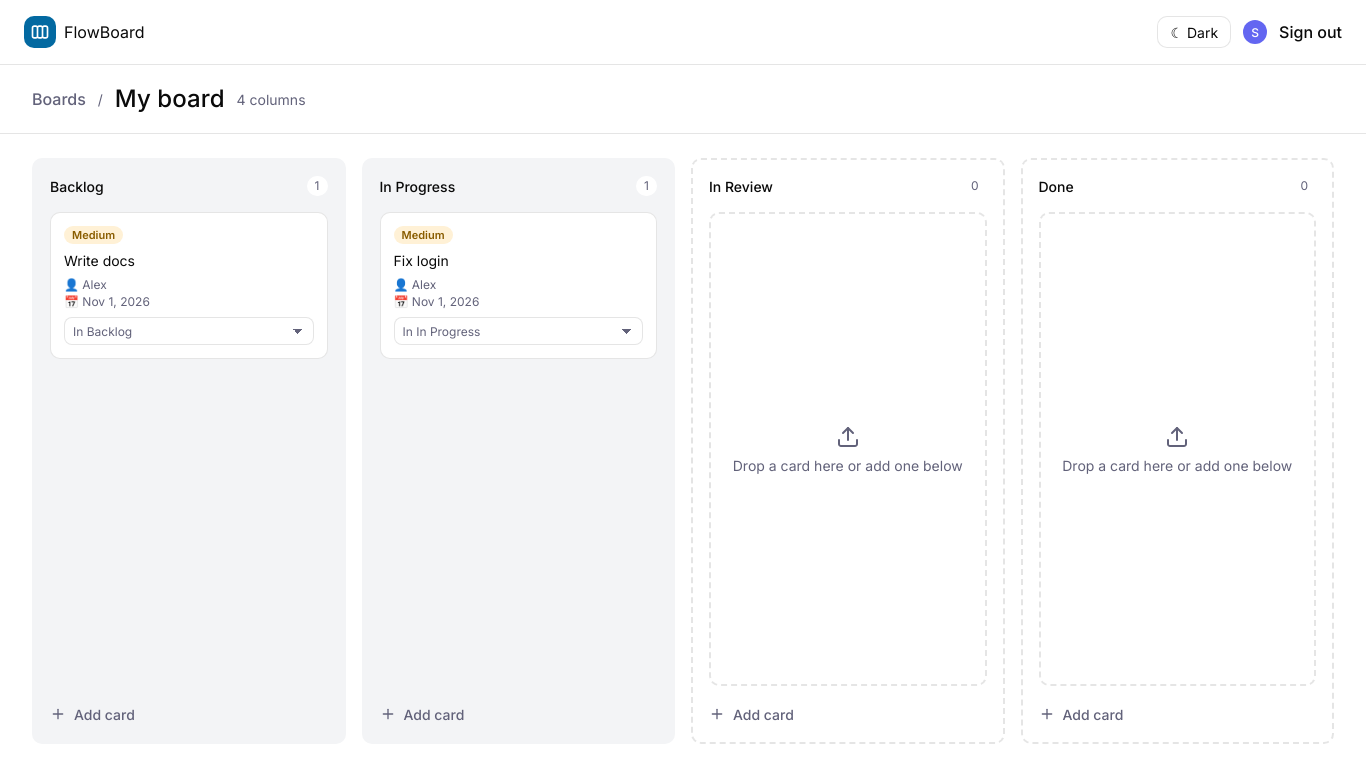
Test: board › creates a card in the column whose Add button was used
Expected: the heading "My board" is shown, [115,81,225,117]
Expected: the button "Write docs" is shown, [64,252,314,269]
Click the button with aria-label "Add card to In Review": {"x": 763, "y": 714} [709,702,986,726]
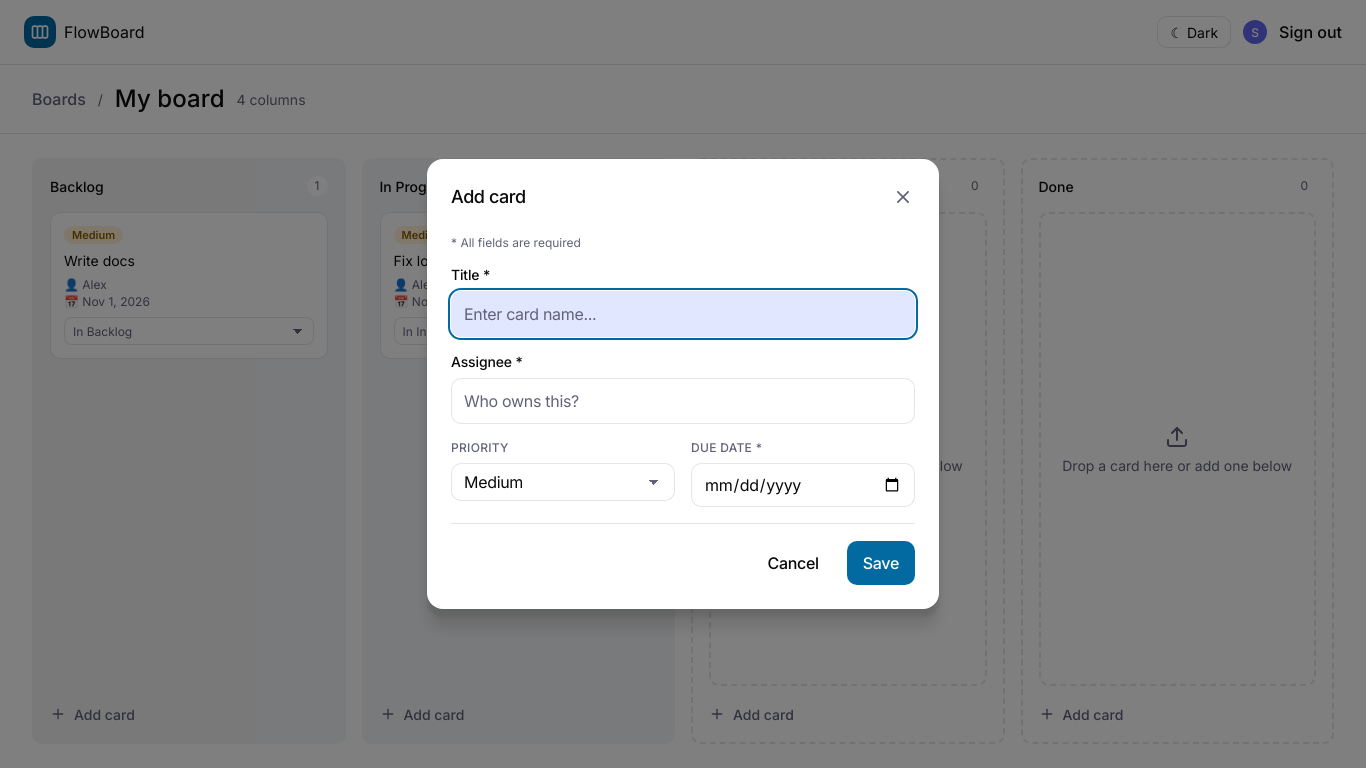
In the field labelled "Title *": {"x": 683, "y": 314} [451,291,915,337], type "Ship release"
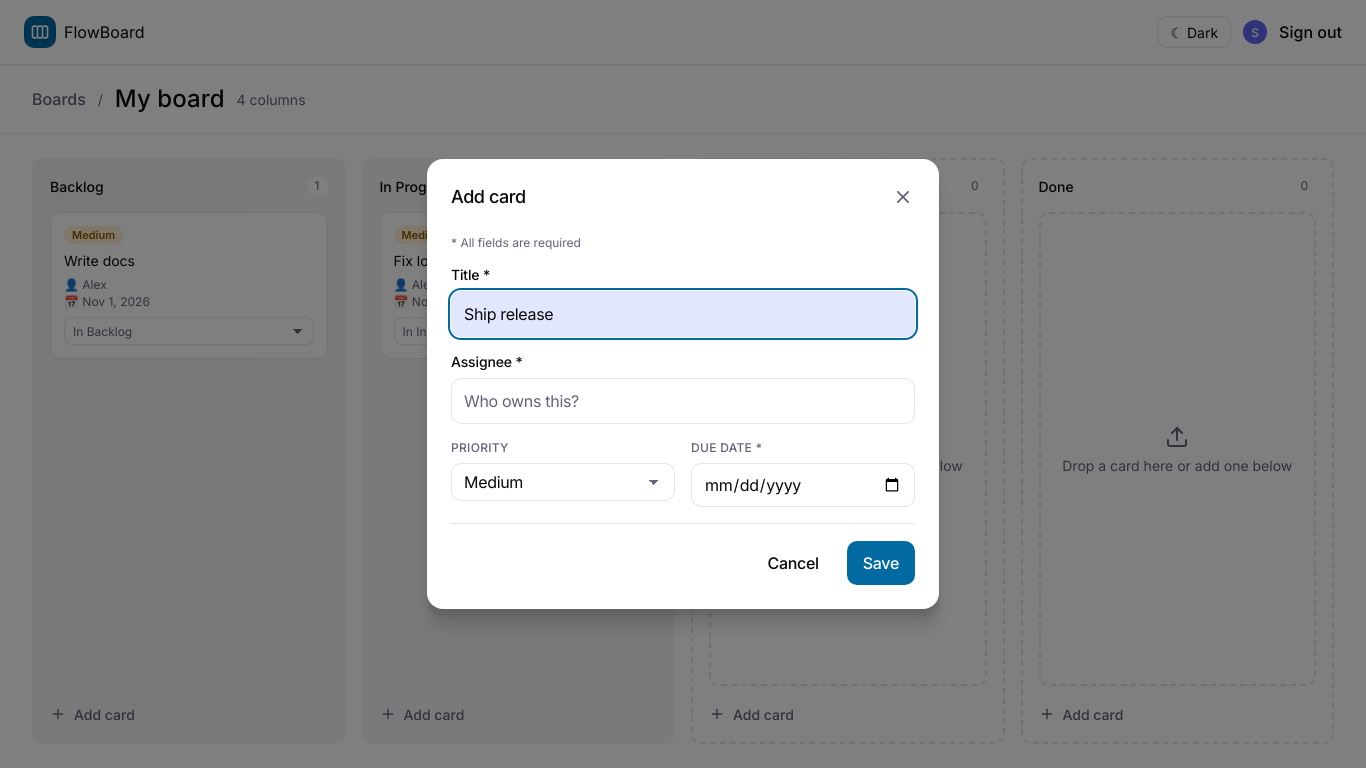
In the field labelled "Assignee *": {"x": 683, "y": 401} [451,378,915,424], type "Sam"
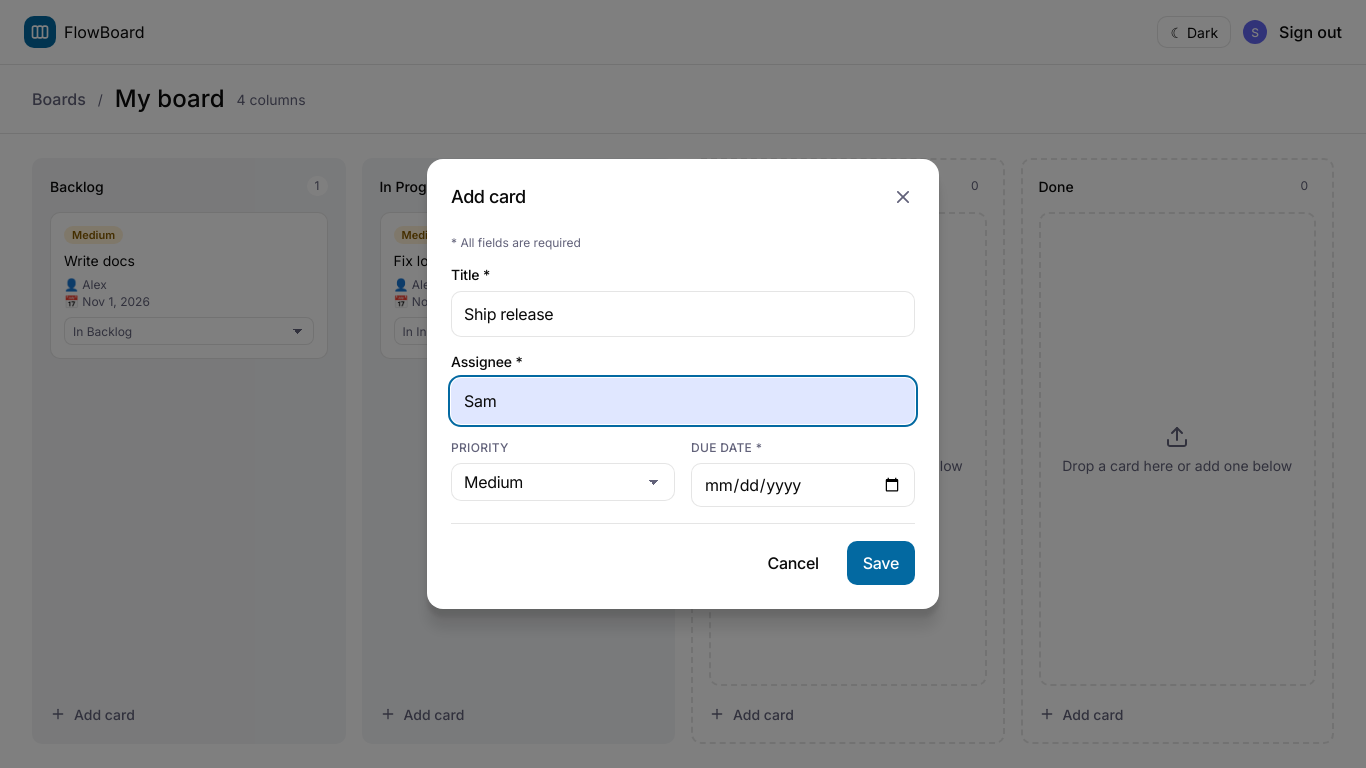
In the date field labelled "Due date *": {"x": 803, "y": 485} [691,463,915,507], type "2026-12-24"
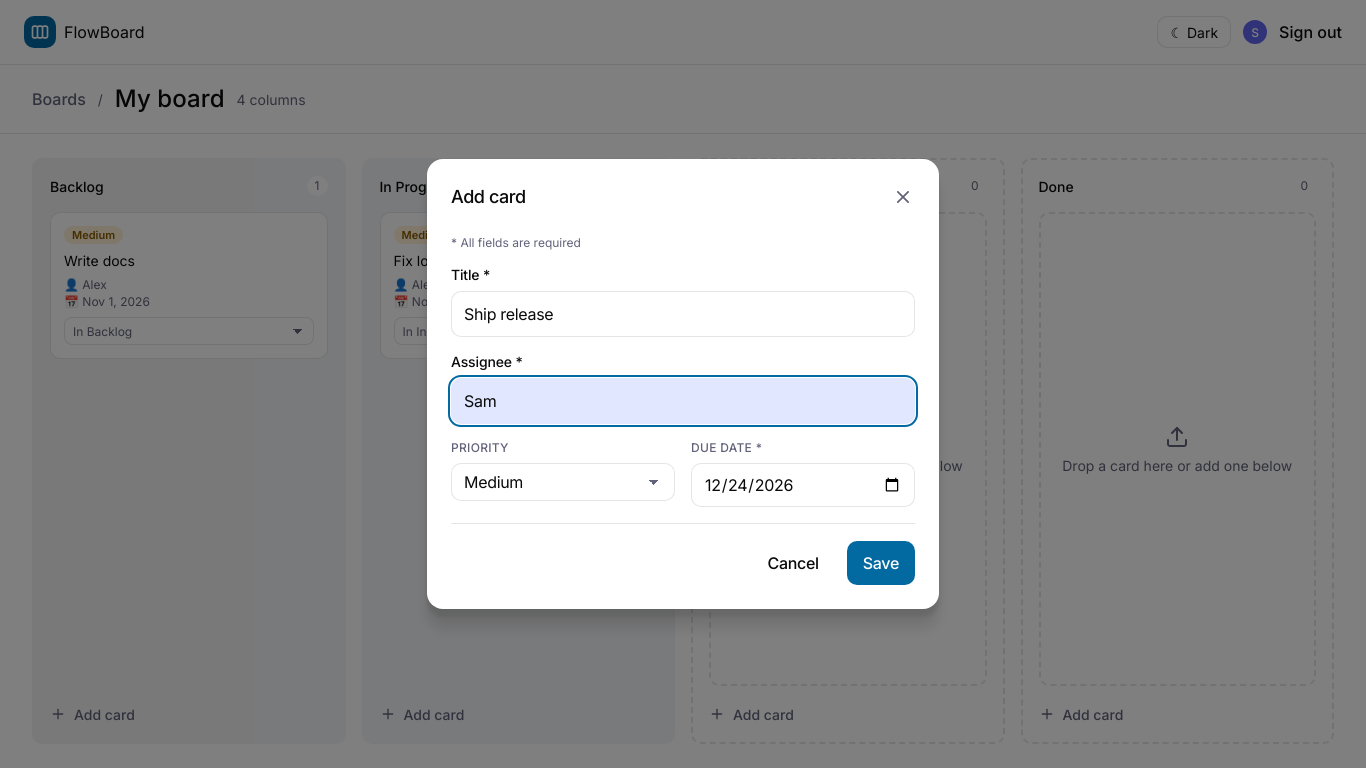
Click the button "Save": {"x": 881, "y": 563} [847,541,915,585]
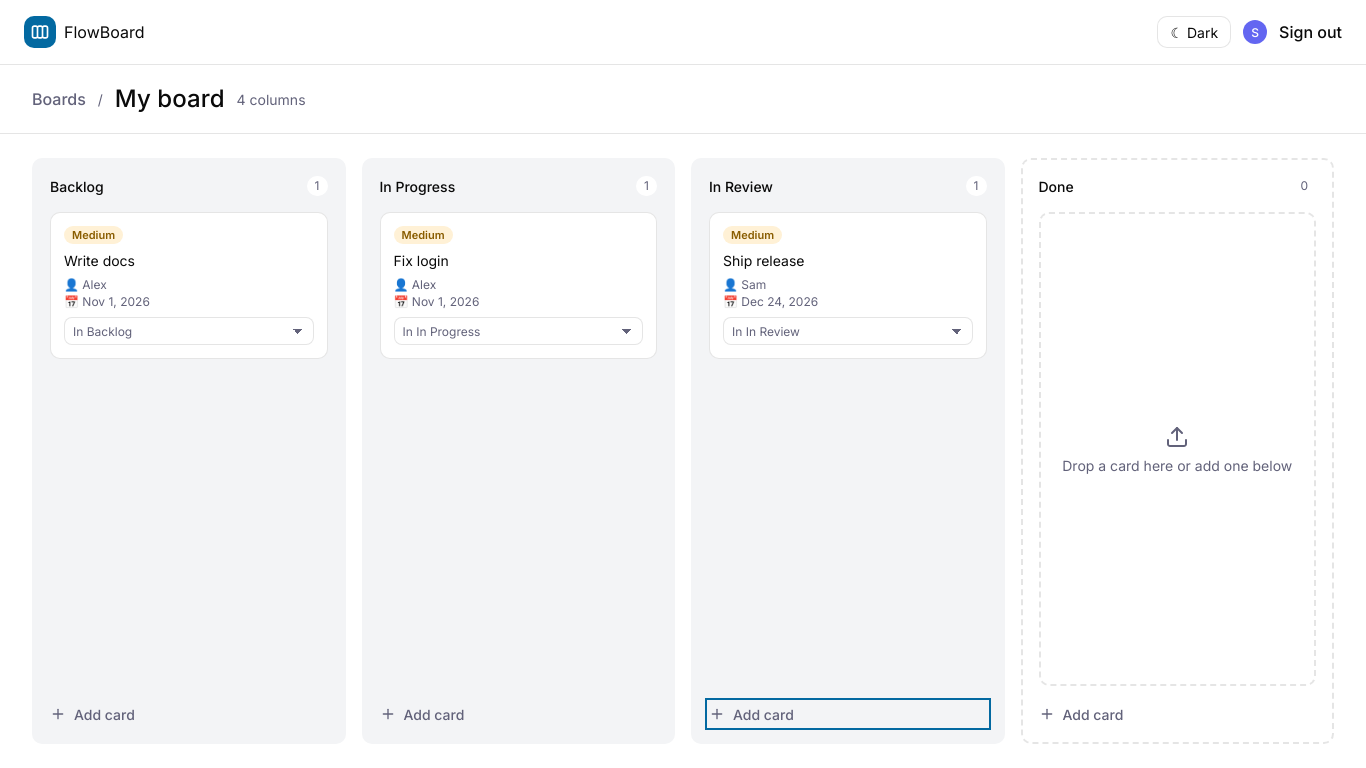
Now the button "Ship release" is shown, box [723,252,972,269]
Now the dialog is gone
